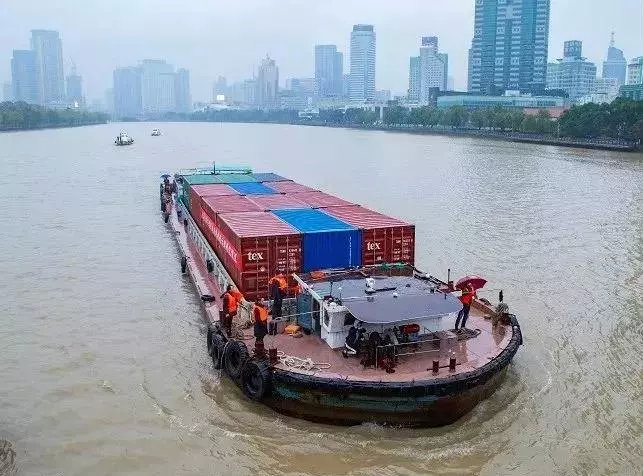Cargoship: (154, 157, 518, 421)
